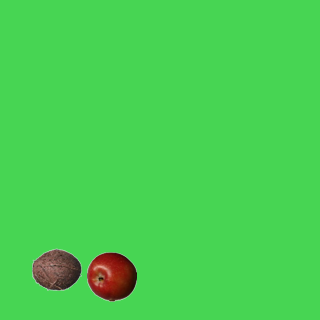Apple Braeburn: (86, 251, 136, 301)
Cocos: (31, 244, 81, 294)
